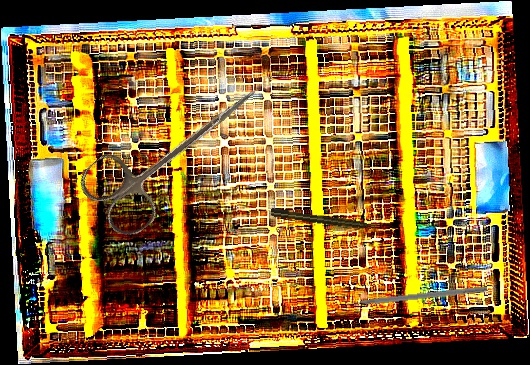Chopper: (337, 278, 488, 308)
Handpiece: (270, 207, 378, 232)
Iris Scissors: (72, 54, 280, 245)
